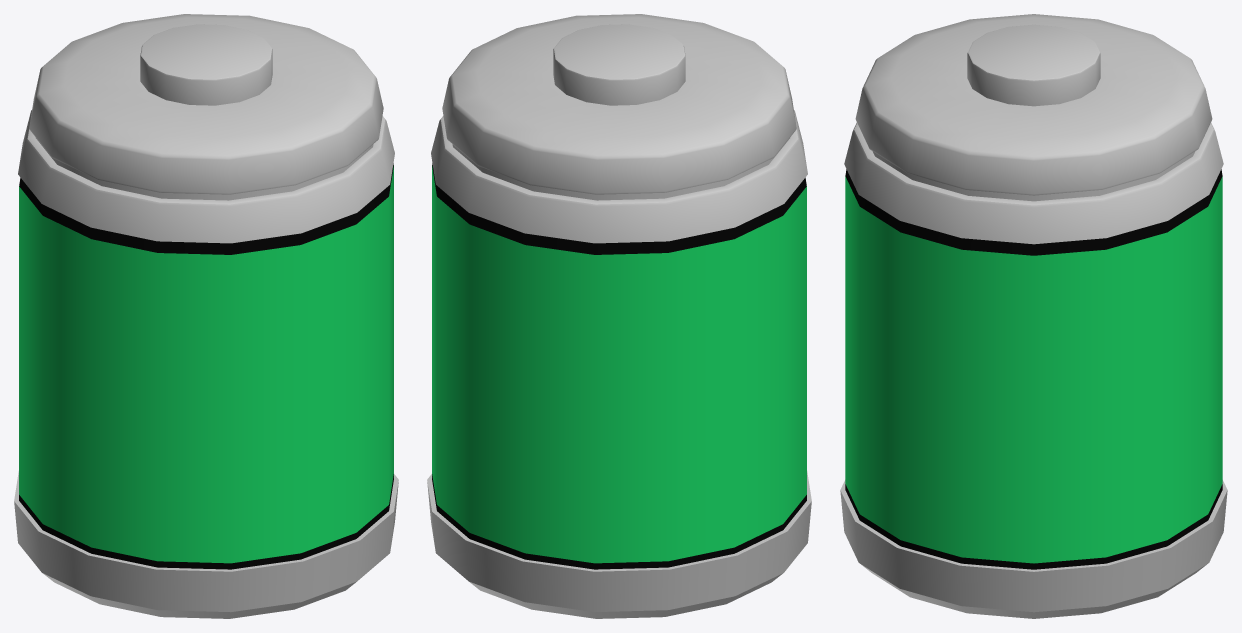
Rendered from energy_cell.obj.
The picture shows the model from 3 angles, left to right: view 1: azimuth 30°, elevation 25°; view 2: azimuth 150°, elevation 25°; view 3: azimuth 270°, elevation 25°; orthographic projection.
Visible parts, largest first — view 1: Cell; view 2: Cell; view 3: Cell.
Part boxes in pixels (bbox=[...]): Cell: bbox=[14, 14, 398, 618]; Cell: bbox=[427, 14, 811, 618]; Cell: bbox=[840, 14, 1227, 618].
Bounding box in the file's own units: 2.28 × 3.2 × 2.28.
